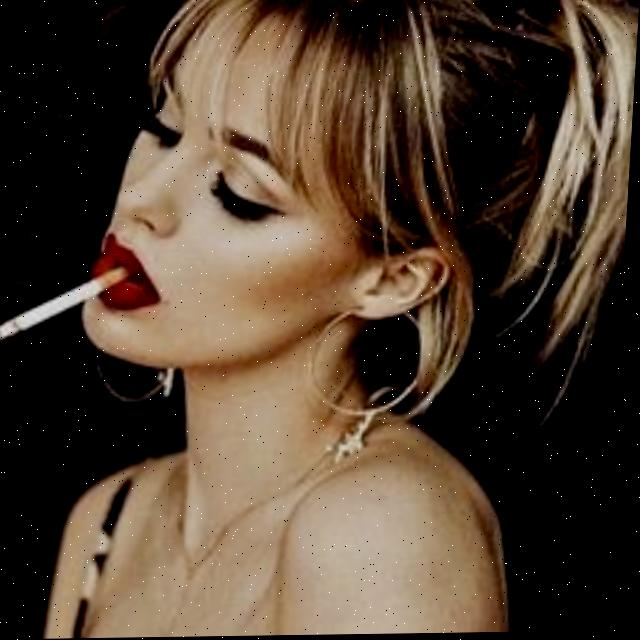cigarette: (0, 267, 132, 339)
